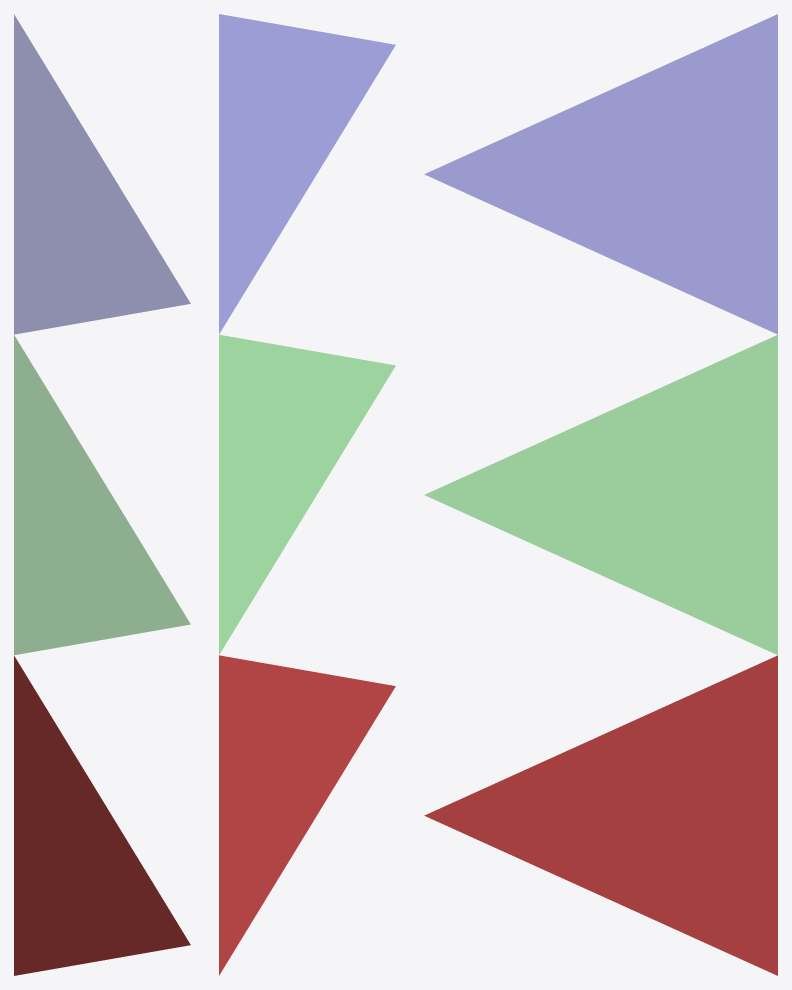
File: mixed_alpha.gltf
3 renders of one model, left to right at view 1: azimuth 30°, elevation 25°; view 2: azimuth 150°, elevation 25°; view 3: azimuth 270°, elevation 25°, orthographic.
Parts seen in each view (by area): view 1: MixedAlphaPrimitives; view 2: MixedAlphaPrimitives; view 3: MixedAlphaPrimitives.
Part boxes in pixels (x1,y1,x2,y2): MixedAlphaPrimitives: [14, 14, 190, 975]; MixedAlphaPrimitives: [219, 14, 395, 975]; MixedAlphaPrimitives: [424, 14, 777, 975].
Size of the model in its own units: 0 by 60 by 20.
